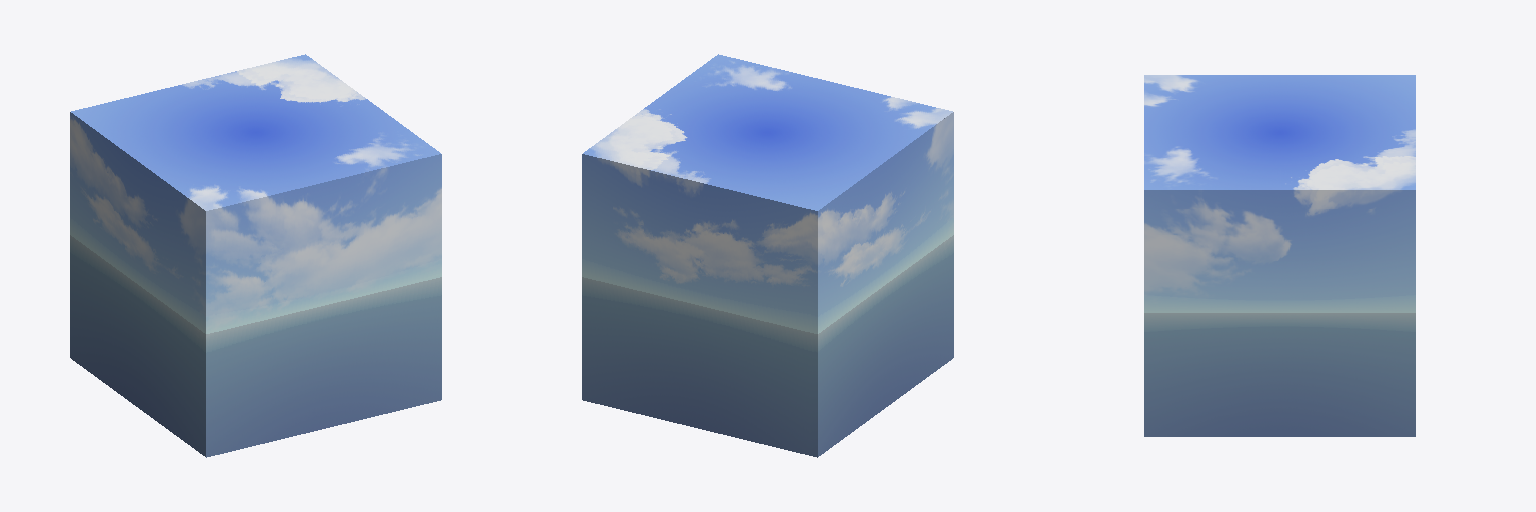
The picture shows the model from 3 angles: view 1: azimuth 30°, elevation 25°; view 2: azimuth 150°, elevation 25°; view 3: azimuth 270°, elevation 25°; orthographic projection.
Parts seen in each view (by area): view 1: Cube; view 2: Cube; view 3: Cube.
Boxes of the visible parts, x1=… form: Cube: x1=70, y1=54, x2=441, y2=457; Cube: x1=582, y1=54, x2=953, y2=457; Cube: x1=1144, y1=75, x2=1415, y2=436.
Bounding box in the file's own units: 100 × 100 × 100.
Materials: 1 (1 with a texture image).